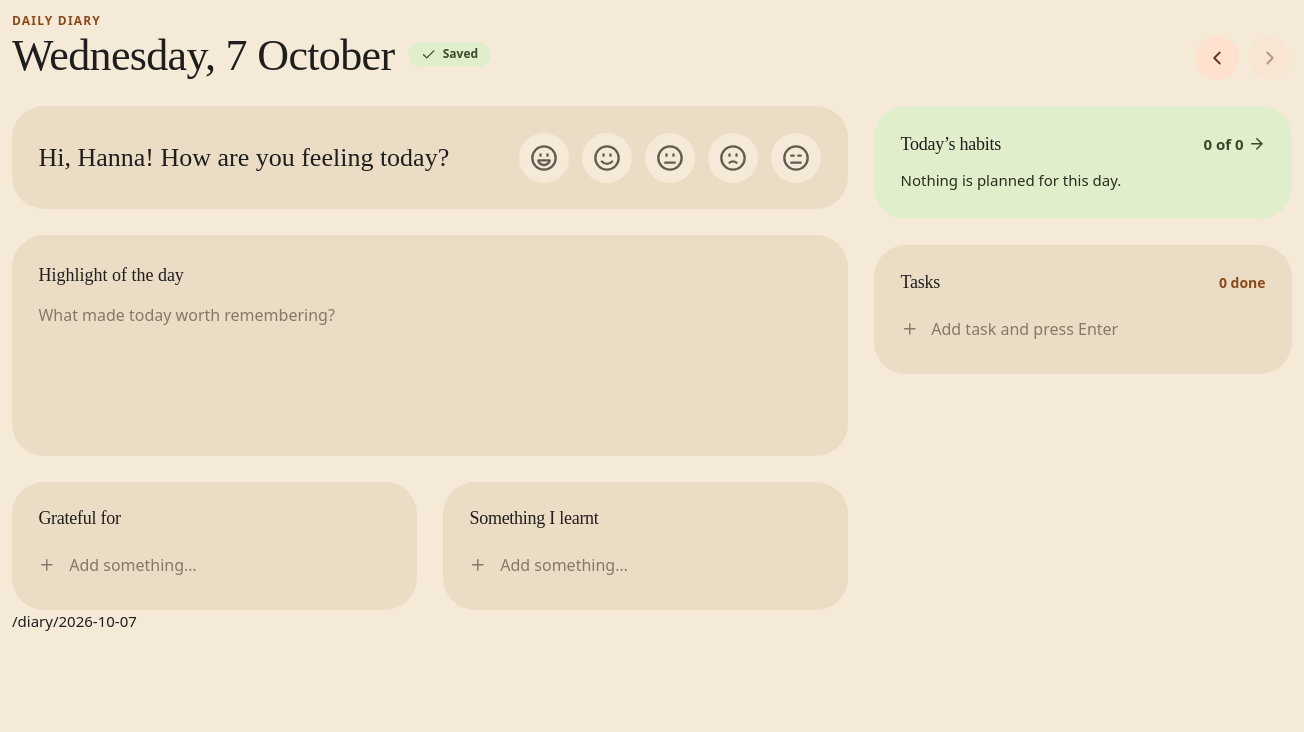
Test: moving between days › goes to the day before and the day after, and not past today
The image size is (1304, 732).
Expected: the button named "Next day" is disabled, x1=1248 y1=36 x2=1292 y2=80
What coordinates should you click on to do the following:
click the button named "Previous day"
I would click on:
 (1217, 58)
Its box is x1=1195 y1=36 x2=1239 y2=80.
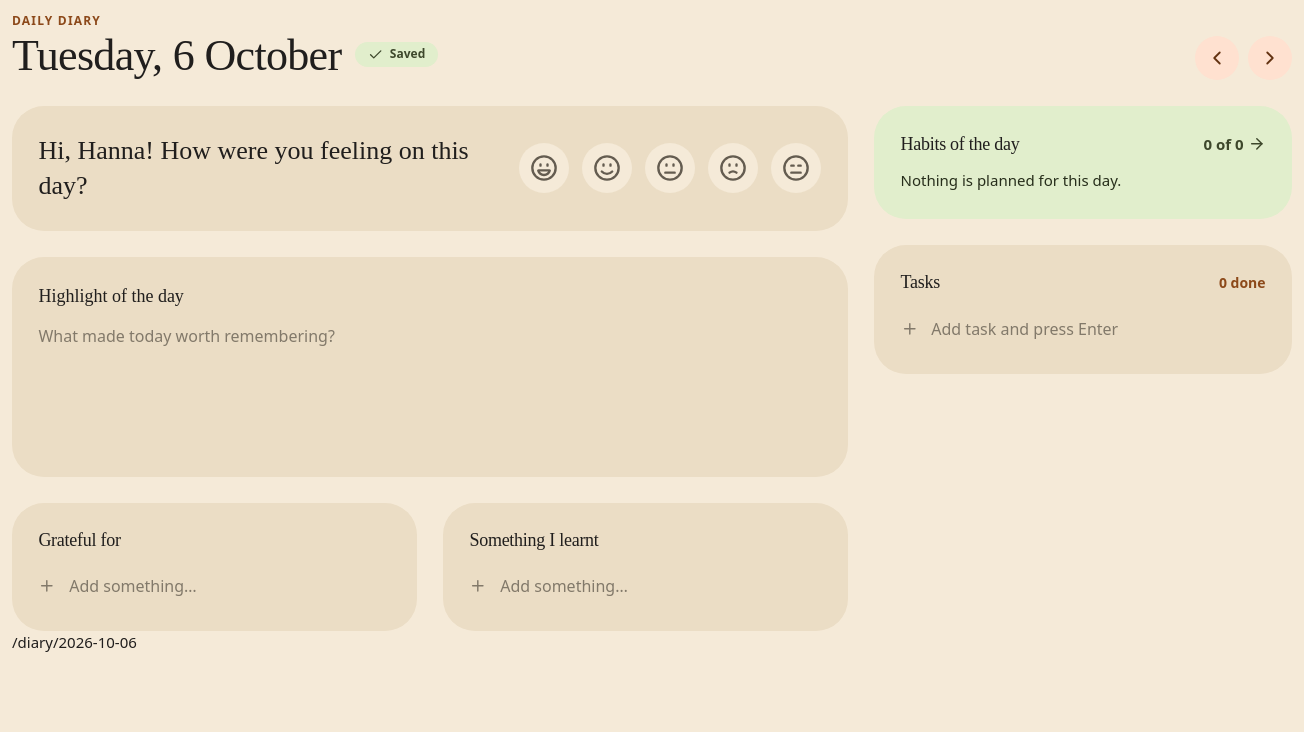
Result: the text with test id "location" reads "/diary/2026-10-06" at x1=12 y1=632 x2=137 y2=652
Result: the heading "Tuesday, 6 October" is shown at x1=12 y1=31 x2=342 y2=80
Result: the button named "Next day" is enabled
What coordinates should you click on to do the following:
click the button named "Next day"
I would click on:
 (1270, 58)
Its box is x1=1248 y1=36 x2=1292 y2=80.
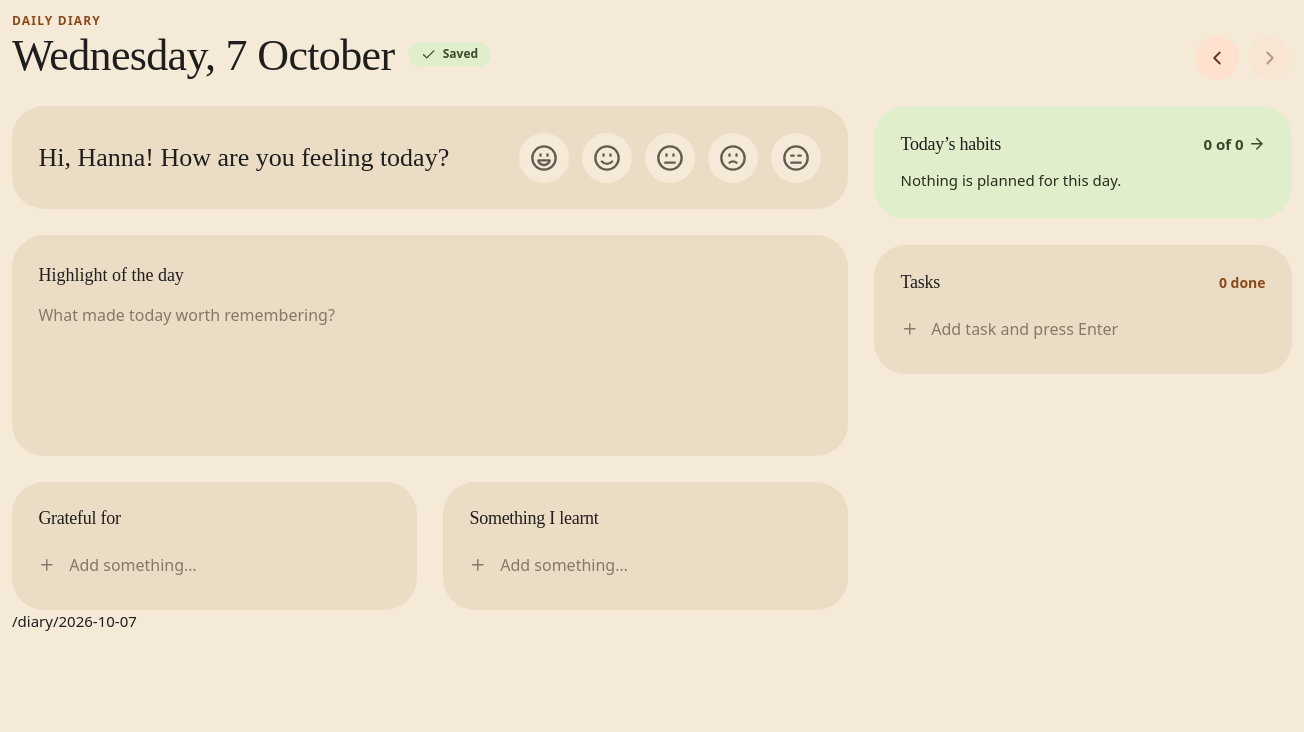
Result: the text with test id "location" reads "/diary/2026-10-07" at x1=12 y1=611 x2=137 y2=631
